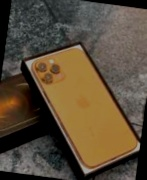iphone: (28, 48, 145, 167)
